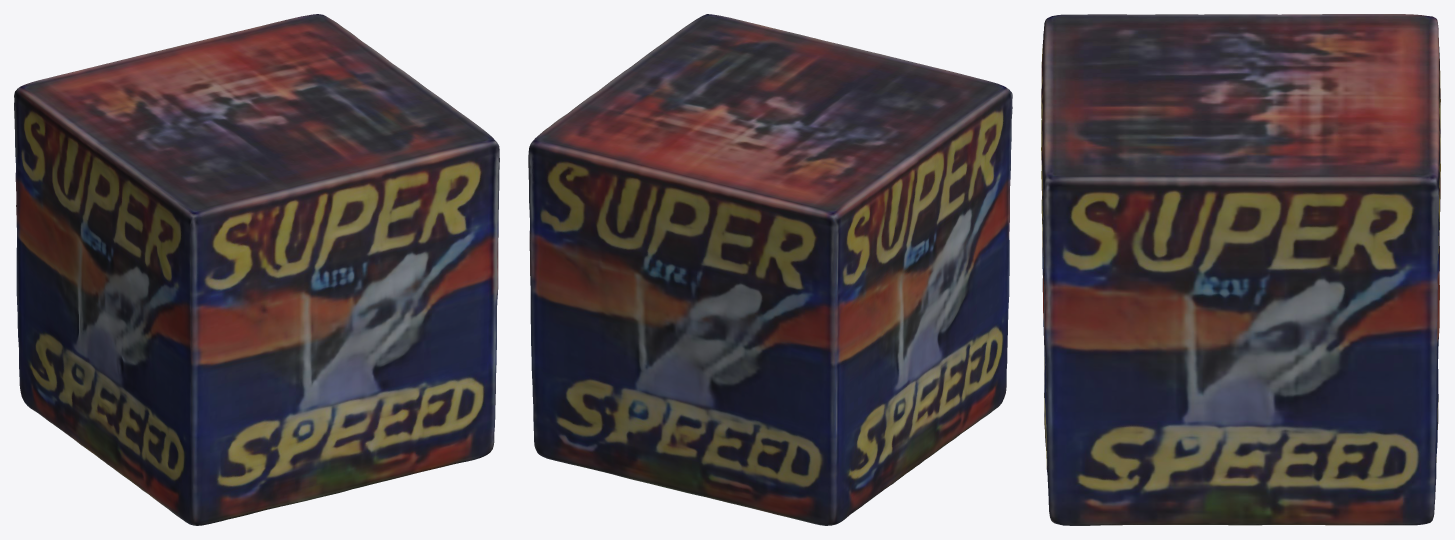
File: SuperSpeed.fbx
The picture shows the model from 3 angles, left to right: view 1: azimuth 30°, elevation 25°; view 2: azimuth 150°, elevation 25°; view 3: azimuth 270°, elevation 25°; orthographic projection. The views are drawn at different scales.
Parts seen in each view (by area): view 1: high_poly; view 2: high_poly; view 3: high_poly.
Boxes of the visible parts, box(x1,y1,x2,y2) form: high_poly: box(14, 14, 499, 525); high_poly: box(528, 14, 1012, 525); high_poly: box(1041, 14, 1440, 525).
Bounding box in the file's own units: 99.63 × 96.97 × 100.
